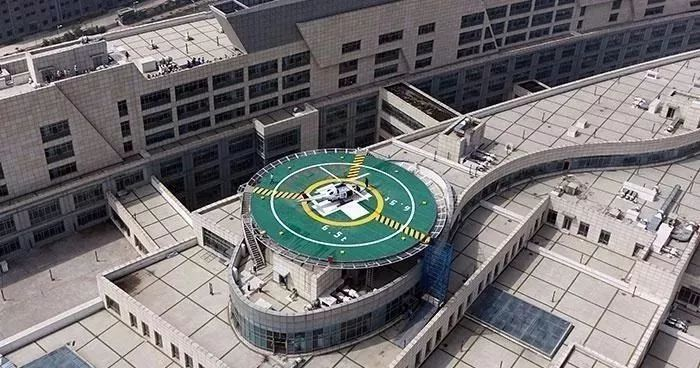Apron: (302, 178, 384, 225)
